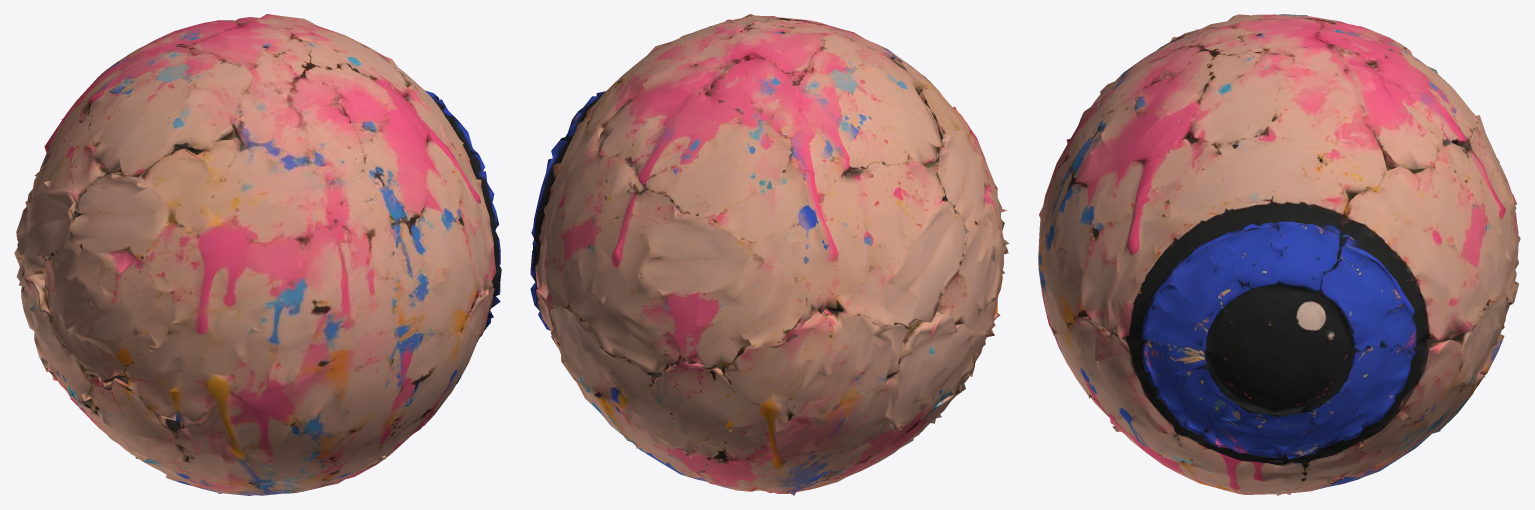
File: statue2_eye.glb
3 renders of one model, left to right at view 1: azimuth 30°, elevation 25°; view 2: azimuth 150°, elevation 25°; view 3: azimuth 270°, elevation 25°, orthographic.
Visible parts, largest first — view 1: statue2_eye; view 2: statue2_eye; view 3: statue2_eye.
Boxes of the visible parts, x1,y1,x2,y2 form: statue2_eye: (14, 14, 501, 495); statue2_eye: (530, 14, 1009, 495); statue2_eye: (1038, 14, 1520, 495).
Bounding box in the file's own units: 0.8509 × 0.8508 × 0.8452.
1 material, 1 textured.
